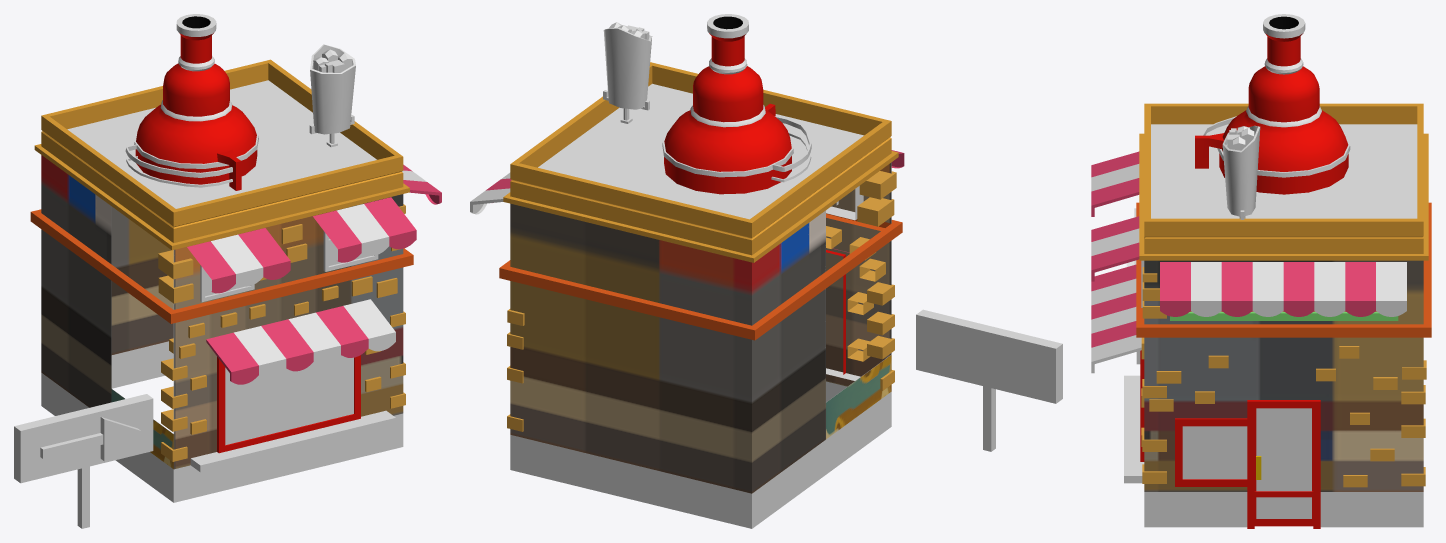
The model's file is Shawarma_Takeout.fbx.
The picture shows the model from 3 angles, left to right: view 1: azimuth 30°, elevation 25°; view 2: azimuth 150°, elevation 25°; view 3: azimuth 270°, elevation 25°; orthographic projection. The views are drawn at different scales.
Visible parts, largest first — view 1: Cube.017, Cylinder.005, Cube.020, Cube.019, Cube.018, Cube.043, Cube.044, Stand.001, Cube.042, Cube.041; view 2: Cube.017, Cylinder.005, Cube.020, Cube.018, Stand.001, Cube.041; view 3: Cube.017, Cylinder.005, Cube.041, Cube.018, Cube.019, Stand.001, Cube.044, Cube.043, Cube.040.
Boxes of the visible parts, bbox=[...] form: Cube.017: bbox=[30, 59, 413, 502]; Cylinder.005: bbox=[125, 14, 258, 190]; Cube.020: bbox=[14, 394, 153, 528]; Cube.019: bbox=[206, 299, 395, 384]; Cube.018: bbox=[158, 204, 405, 461]; Cube.043: bbox=[187, 228, 290, 293]; Cube.044: bbox=[313, 197, 416, 262]; Stand.001: bbox=[309, 44, 355, 147]; Cube.042: bbox=[200, 231, 378, 302]; Cube.041: bbox=[402, 164, 441, 204]; Cube.017: bbox=[499, 62, 902, 528]; Cylinder.005: bbox=[662, 14, 811, 194]; Cube.020: bbox=[916, 309, 1062, 451]; Cube.018: bbox=[507, 171, 896, 431]; Stand.001: bbox=[603, 22, 652, 123]; Cube.041: bbox=[470, 172, 511, 214]; Cube.017: bbox=[1124, 103, 1431, 528]; Cylinder.005: bbox=[1195, 14, 1350, 194]; Cube.041: bbox=[1160, 262, 1406, 316]; Cube.018: bbox=[1141, 267, 1426, 487]; Cube.019: bbox=[1091, 264, 1141, 373]; Stand.001: bbox=[1222, 125, 1260, 219]; Cube.044: bbox=[1091, 216, 1139, 281]; Cube.043: bbox=[1091, 151, 1139, 216]; Cube.040: bbox=[1170, 311, 1398, 320].
Bounding box in the file's own units: 1054 × 953 × 681.
